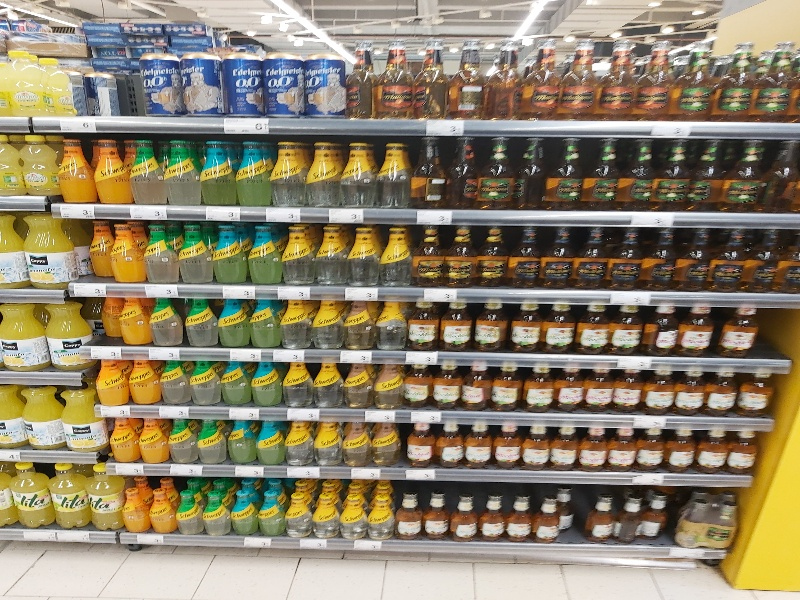product: (23, 214, 81, 288), (675, 492, 741, 549), (43, 297, 92, 370), (1, 299, 48, 372), (1, 44, 45, 119), (17, 383, 63, 453), (60, 386, 106, 456), (345, 32, 380, 120), (379, 34, 414, 122), (412, 31, 447, 119), (448, 33, 483, 121), (489, 35, 524, 123), (525, 32, 560, 120), (564, 27, 599, 115), (605, 34, 640, 122), (640, 35, 675, 123), (681, 33, 716, 121), (722, 30, 757, 118), (765, 29, 800, 117), (10, 457, 51, 532), (48, 456, 89, 531), (17, 131, 56, 203), (53, 133, 92, 205), (92, 131, 131, 203), (125, 133, 164, 205), (162, 135, 201, 207), (196, 135, 235, 207), (226, 136, 265, 208), (264, 139, 303, 211), (301, 137, 340, 209), (334, 138, 373, 210), (371, 139, 410, 211), (409, 137, 448, 209), (439, 134, 478, 206), (472, 139, 511, 211), (513, 137, 552, 209), (546, 133, 585, 205), (581, 138, 620, 210), (616, 133, 655, 205), (651, 137, 690, 209), (687, 135, 726, 207), (723, 140, 762, 212), (761, 141, 800, 213), (264, 46, 305, 114), (222, 45, 263, 113), (182, 49, 223, 117), (141, 49, 182, 117), (307, 46, 344, 119), (83, 461, 122, 530), (139, 222, 180, 287), (174, 222, 210, 283), (211, 222, 247, 283), (244, 224, 280, 285), (347, 222, 383, 283), (278, 220, 314, 281), (308, 222, 344, 283), (377, 224, 413, 285), (406, 224, 442, 285), (438, 222, 474, 283), (469, 224, 505, 285), (504, 222, 540, 283), (540, 225, 576, 286), (571, 225, 607, 286), (608, 227, 644, 288), (641, 226, 677, 287), (677, 227, 713, 288), (709, 225, 745, 286), (743, 228, 779, 289), (81, 217, 114, 281), (109, 219, 142, 283), (739, 366, 778, 418), (181, 296, 217, 346), (722, 306, 760, 351), (216, 295, 249, 346), (248, 296, 281, 347), (276, 294, 309, 345), (308, 300, 341, 351), (340, 298, 373, 349), (370, 300, 403, 351), (405, 300, 438, 351), (440, 300, 473, 351), (476, 299, 509, 350), (509, 303, 542, 354), (542, 300, 575, 351), (579, 299, 612, 350), (609, 301, 642, 352), (646, 302, 679, 353), (681, 303, 714, 354), (106, 411, 137, 465), (134, 412, 165, 466), (162, 412, 193, 466), (192, 412, 223, 466), (224, 412, 255, 466), (252, 415, 285, 465), (281, 415, 314, 465), (312, 416, 345, 466), (341, 416, 374, 466), (644, 364, 676, 415), (673, 364, 705, 415), (642, 489, 671, 545), (490, 360, 523, 409), (523, 363, 556, 412), (554, 362, 587, 411), (708, 366, 740, 416), (368, 419, 401, 467), (117, 299, 148, 349), (150, 294, 181, 344), (96, 361, 128, 407), (128, 360, 160, 406), (157, 358, 189, 404), (187, 361, 219, 407), (218, 359, 250, 405), (250, 362, 282, 408), (280, 361, 312, 407), (313, 360, 345, 406), (342, 362, 374, 408), (373, 362, 405, 408), (404, 420, 435, 466), (434, 420, 465, 466), (462, 421, 493, 467), (492, 420, 523, 466), (522, 422, 553, 468), (548, 423, 579, 469), (578, 425, 609, 471), (603, 425, 634, 471), (636, 422, 667, 468), (667, 422, 698, 468), (695, 425, 726, 471), (726, 429, 757, 475), (584, 362, 614, 409), (614, 362, 644, 409), (174, 484, 202, 534), (199, 483, 227, 533), (401, 361, 431, 407), (431, 362, 461, 408), (461, 364, 491, 410), (228, 484, 257, 531), (252, 488, 281, 535), (283, 488, 312, 535), (309, 487, 338, 534), (341, 489, 370, 536), (364, 489, 393, 536), (394, 490, 423, 537), (421, 488, 450, 535), (448, 489, 477, 536), (479, 489, 508, 536), (505, 488, 534, 535), (529, 492, 558, 539), (122, 481, 147, 532), (148, 479, 173, 530), (591, 493, 617, 542), (616, 491, 642, 539), (561, 486, 583, 527)
